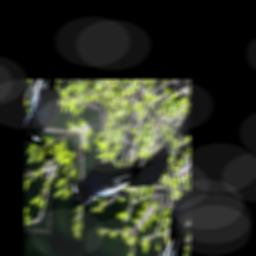Crow: (64, 108, 176, 247)
